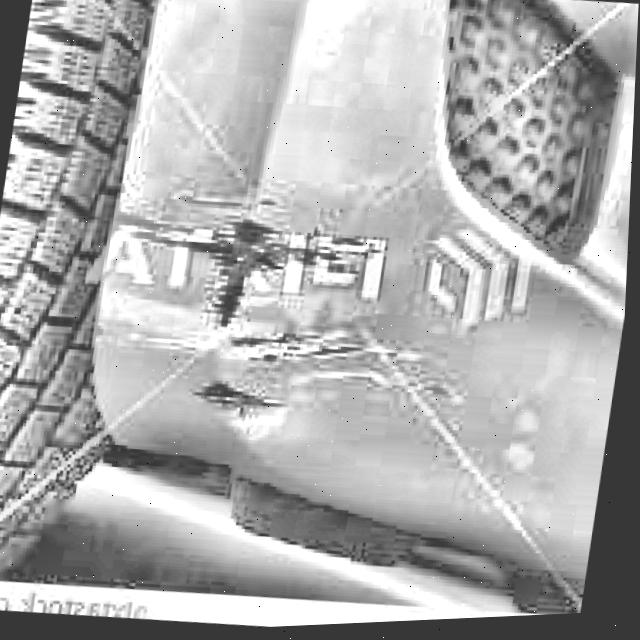bumper_scratch: (87, 192, 392, 435)
